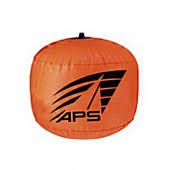buoy: (28, 36, 138, 140)
